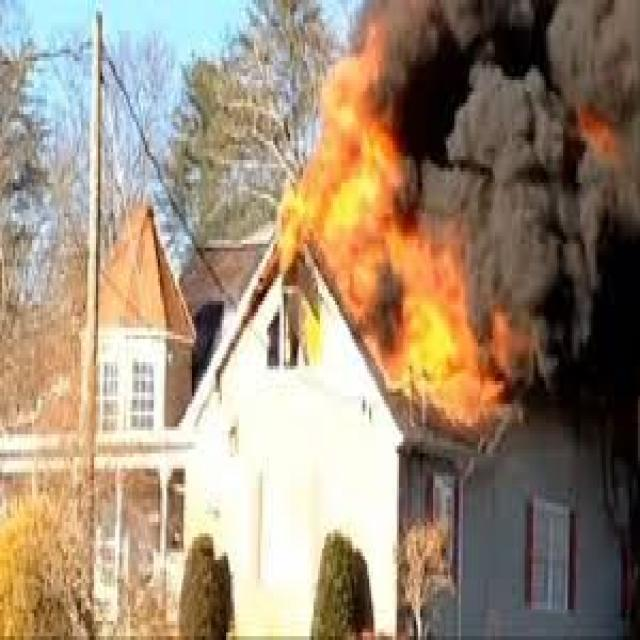Fire: (311, 103, 385, 304), (398, 250, 468, 410)
Smoke: (525, 2, 640, 414), (431, 1, 521, 195)
